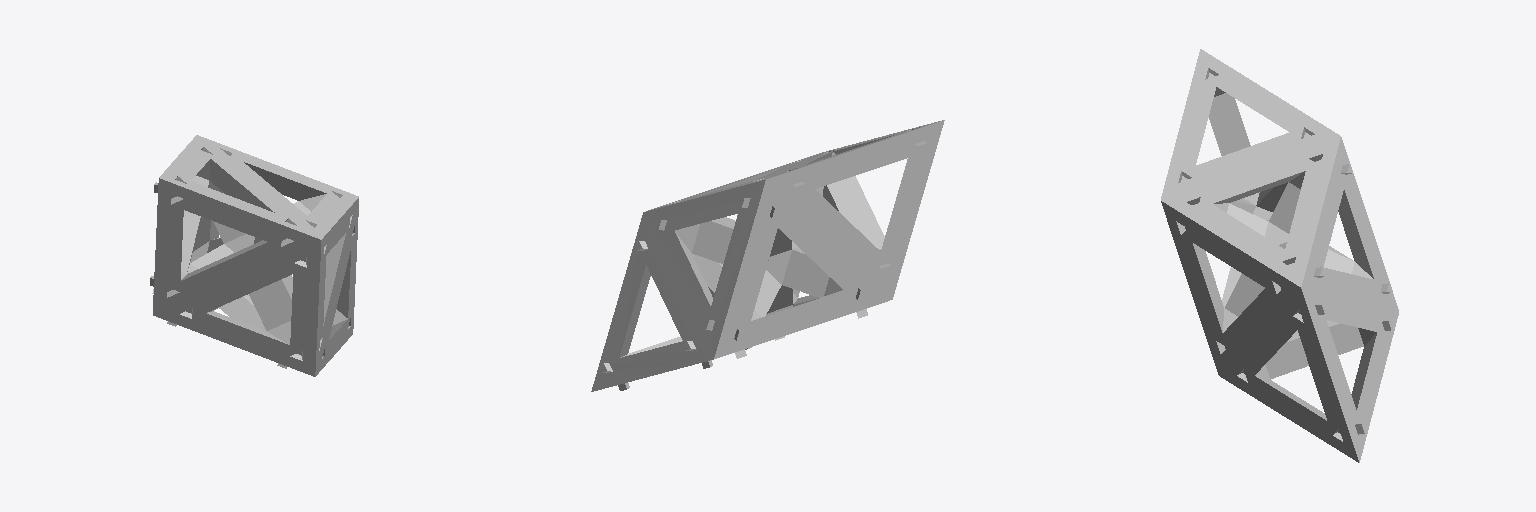
The model's file is theuntitledthuyobj.obj.
3 renders of one model, left to right at view 1: azimuth 30°, elevation 25°; view 2: azimuth 150°, elevation 25°; view 3: azimuth 270°, elevation 25°, orthographic.
Visible parts, largest first — view 1: Mesh1 Model; view 2: Mesh1 Model; view 3: Mesh1 Model.
Part boxes in pixels (x1,y1,x2,y2): Mesh1 Model: (150,135,358,376); Mesh1 Model: (591,120,944,391); Mesh1 Model: (1161,49,1398,462).
Size of the model in its own units: 119 by 116 by 89.51.